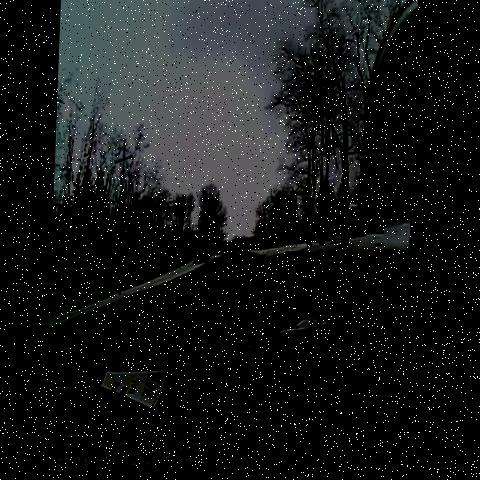pothole: (213, 288, 246, 341), (167, 302, 198, 346), (248, 296, 273, 335), (227, 257, 252, 288)
